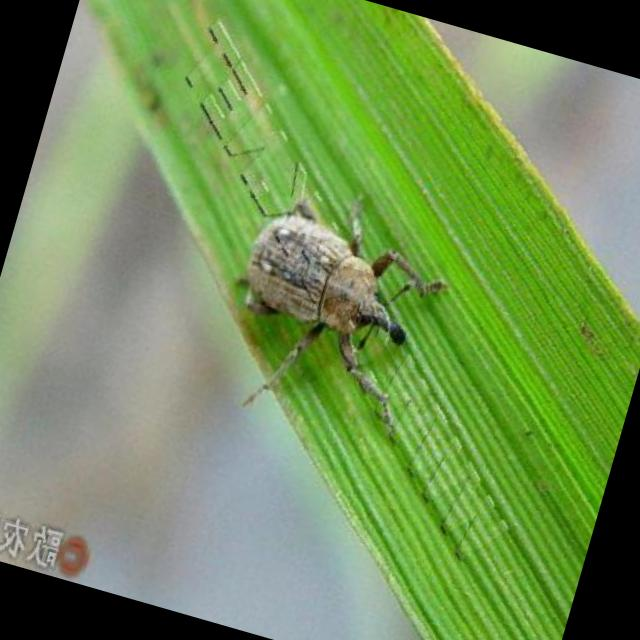rice-bug: (212, 170, 452, 418)
